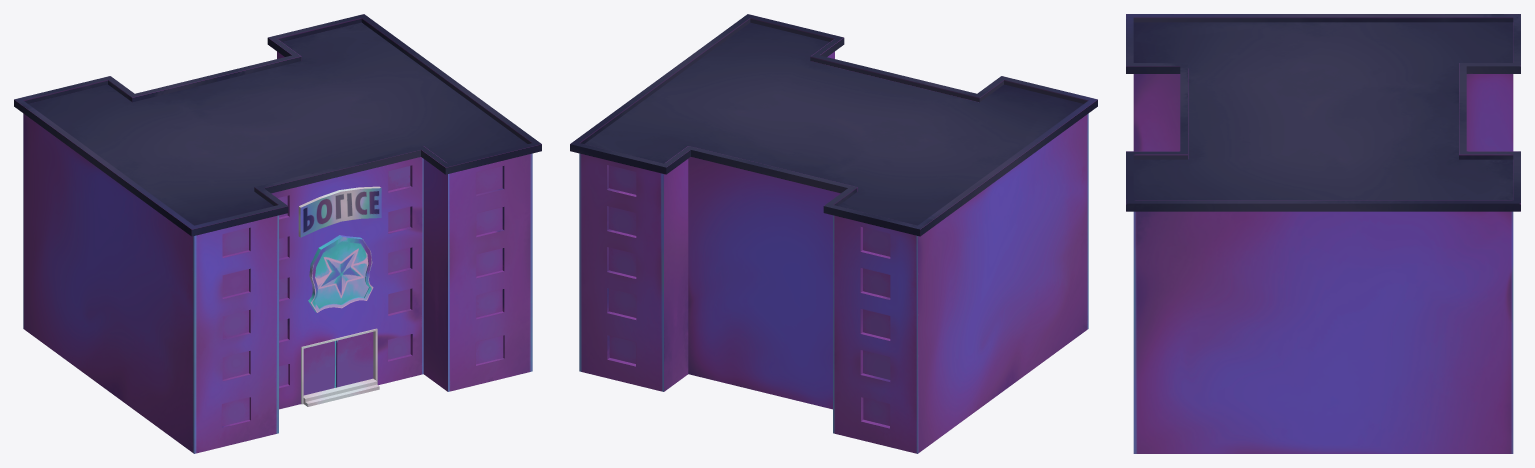
File: SUP_ARCH_PoliceStation.fbx
The picture shows the model from 3 angles, left to right: view 1: azimuth 30°, elevation 25°; view 2: azimuth 150°, elevation 25°; view 3: azimuth 270°, elevation 25°; orthographic projection. The views are drawn at different scales.
Parts seen in each view (by area): view 1: m_superposed_policeStation; view 2: m_superposed_policeStation; view 3: m_superposed_policeStation.
Part boxes in pixels (x1,y1,x2,y2): m_superposed_policeStation: [14, 14, 541, 453]; m_superposed_policeStation: [570, 14, 1097, 453]; m_superposed_policeStation: [1126, 14, 1520, 453].
Bounding box in the file's own units: 1656 × 1032 × 1456.
1 material, 1 textured.
